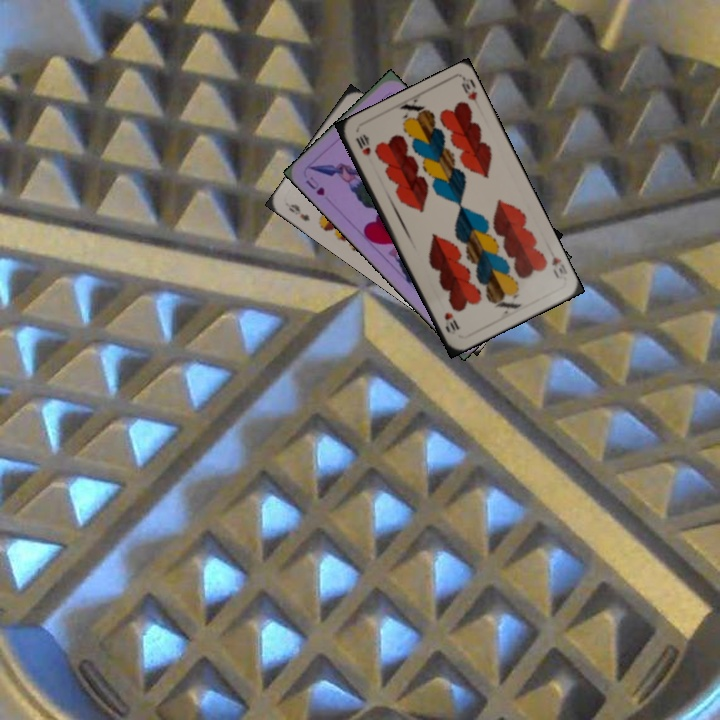E9: (285, 200, 312, 224)
H10: (548, 253, 570, 281), (352, 131, 373, 158)
HU: (301, 176, 327, 198)
